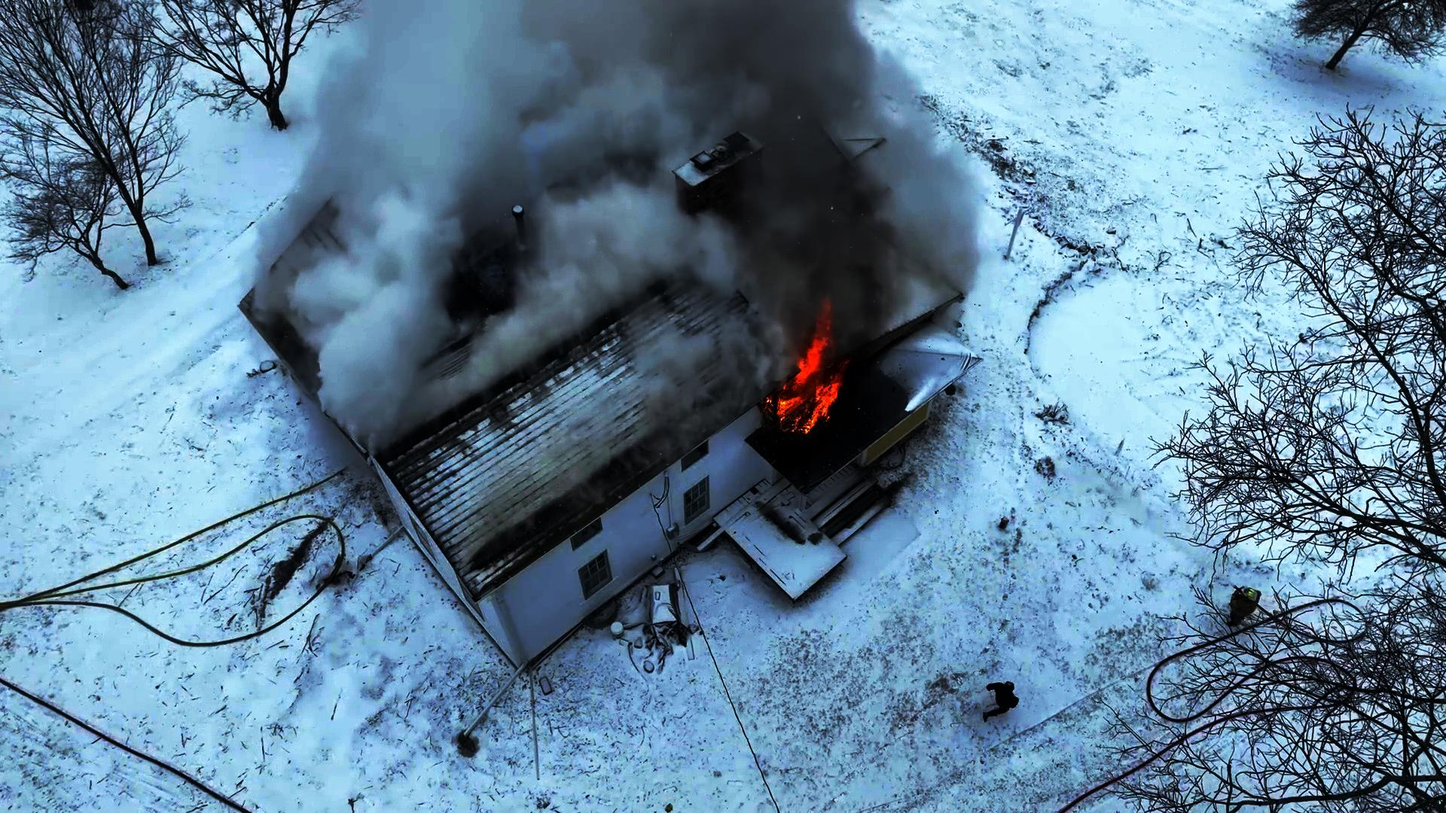fire: (754, 317, 865, 434)
smoke: (407, 44, 719, 174), (748, 59, 880, 296)
